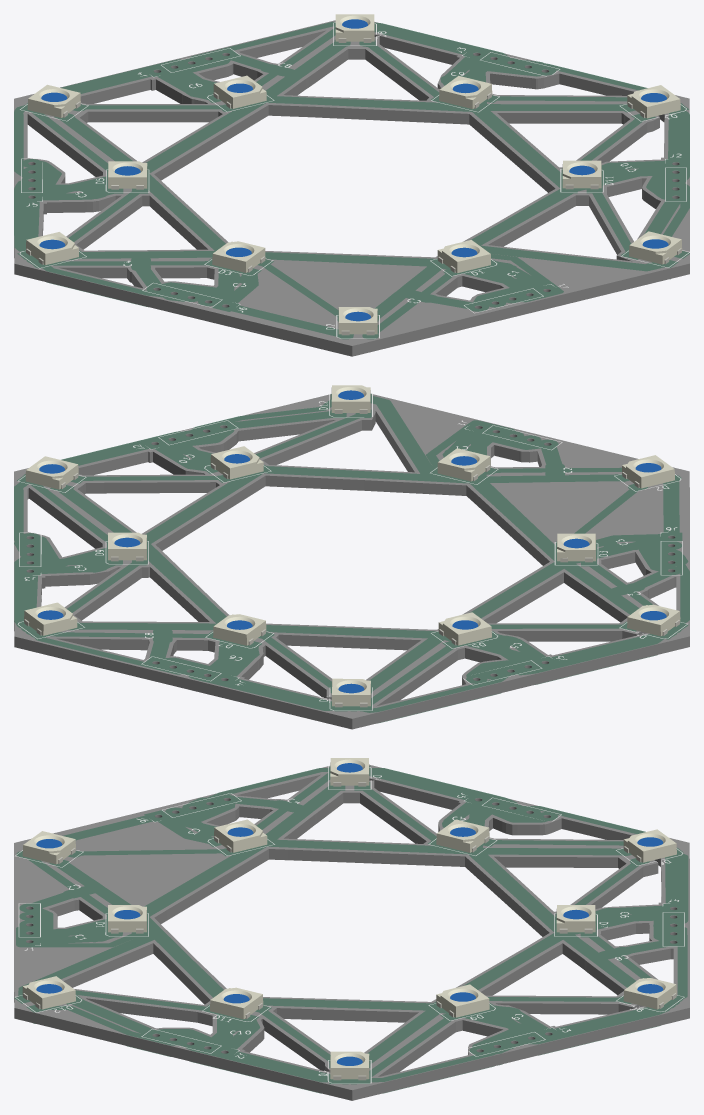
Rendered from 6-01-IPJ0_EMt.glb.
3 renders of one model, top to bottom at view 1: azimuth 30°, elevation 25°; view 2: azimuth 150°, elevation 25°; view 3: azimuth 270°, elevation 25°, orthographic.
Visible parts, largest first — view 1: =>[0:1:1:5], =>[0:1:1:4], =>[0:1:1:3], D6, D12, D7, D9, D10, D3, D1, D4, D11 (+3 smaller); view 2: =>[0:1:1:5], =>[0:1:1:4], =>[0:1:1:3], D1, D10, D8, D11, D5, D7, D2, D4, D3 (+3 smaller); view 3: =>[0:1:1:5], =>[0:1:1:4], =>[0:1:1:3], D5, D3, D2, D12, D9, D6, D8, D11, D10 (+3 smaller).
Boxes of the visible parts, x1=… form: =>[0:1:1:5]: x1=14, y1=20, x2=689, y2=356; =>[0:1:1:4]: x1=14, y1=22, x2=689, y2=339; =>[0:1:1:3]: x1=19, y1=22, x2=689, y2=338; D6: x1=27, y1=84, x2=80, y2=117; D12: x1=629, y1=231, x2=682, y2=264; D7: x1=213, y1=75, x2=266, y2=108; D9: x1=439, y1=75, x2=492, y2=108; D10: x1=627, y1=85, x2=680, y2=118; D3: x1=212, y1=241, x2=265, y2=272; D1: x1=437, y1=240, x2=490, y2=273; D4: x1=25, y1=232, x2=78, y2=265; D11: x1=562, y1=160, x2=601, y2=189; =>[0:1:1:5]: x1=14, y1=394, x2=689, y2=729; =>[0:1:1:4]: x1=14, y1=393, x2=689, y2=723; =>[0:1:1:3]: x1=17, y1=393, x2=687, y2=710; D1: x1=437, y1=448, x2=490, y2=481; D10: x1=25, y1=456, x2=78, y2=489; D8: x1=24, y1=602, x2=77, y2=635; D11: x1=210, y1=446, x2=263, y2=479; D5: x1=438, y1=612, x2=491, y2=645; D7: x1=213, y1=614, x2=266, y2=645; D2: x1=622, y1=455, x2=674, y2=488; D4: x1=627, y1=604, x2=680, y2=636; D3: x1=557, y1=533, x2=595, y2=562; =>[0:1:1:5]: x1=14, y1=765, x2=689, y2=1100; =>[0:1:1:4]: x1=14, y1=766, x2=688, y2=1095; =>[0:1:1:3]: x1=15, y1=766, x2=684, y2=1083; D5: x1=436, y1=819, x2=489, y2=852; D3: x1=214, y1=819, x2=267, y2=852; D2: x1=22, y1=831, x2=75, y2=864; D12: x1=22, y1=976, x2=75, y2=1009; D9: x1=436, y1=984, x2=489, y2=1017; D6: x1=623, y1=829, x2=676, y2=862; D8: x1=623, y1=978, x2=676, y2=1009; D11: x1=210, y1=987, x2=263, y2=1019; D10: x1=330, y1=1051, x2=369, y2=1080.
Bounding box in the file's own units: 0.1 × 0.00337 × 0.0866.
